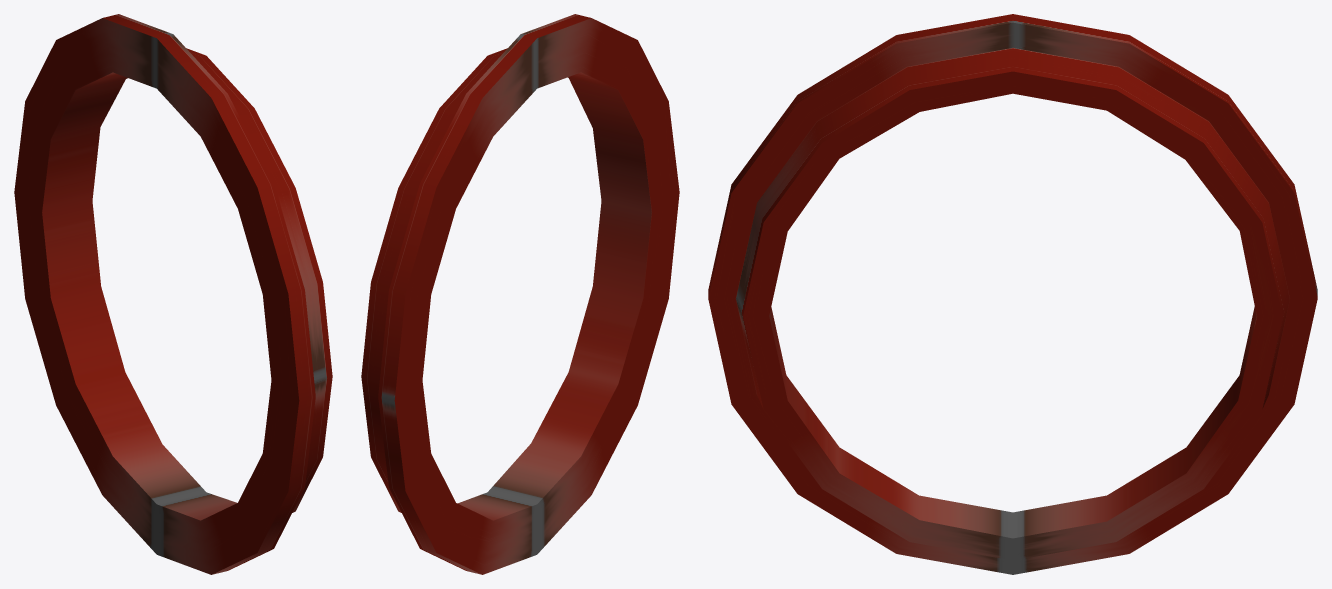
Rendered from pipe01_cap.fbx.
3 views of the same model, side by side, from view 1: azimuth 30°, elevation 25°; view 2: azimuth 150°, elevation 25°; view 3: azimuth 270°, elevation 25° (orthographic). The views are drawn at different scales.
Visible parts, largest first — view 1: pipe01_cap; view 2: pipe01_cap; view 3: pipe01_cap.
Boxes of the visible parts, x1=… form: pipe01_cap: x1=14, y1=14, x2=332, y2=574; pipe01_cap: x1=361, y1=14, x2=679, y2=574; pipe01_cap: x1=708, y1=14, x2=1317, y2=574.
Bounding box in the file's own units: 1.5 × 14.9 × 14.9.
